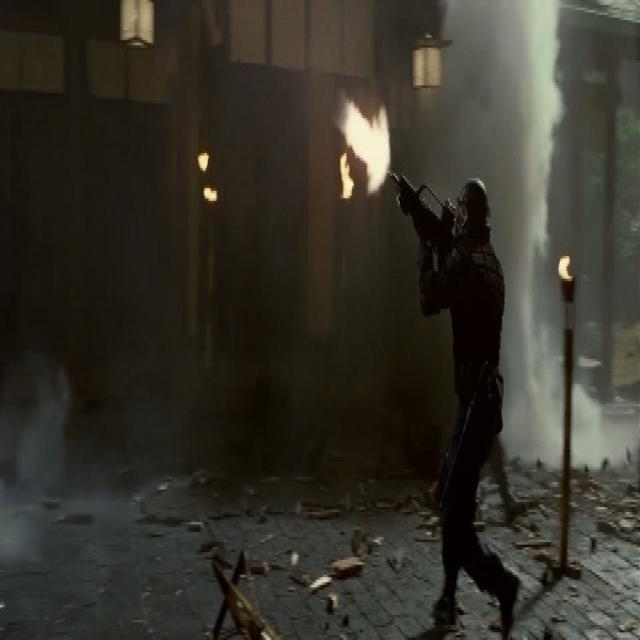rifle: (382, 164, 462, 256)
